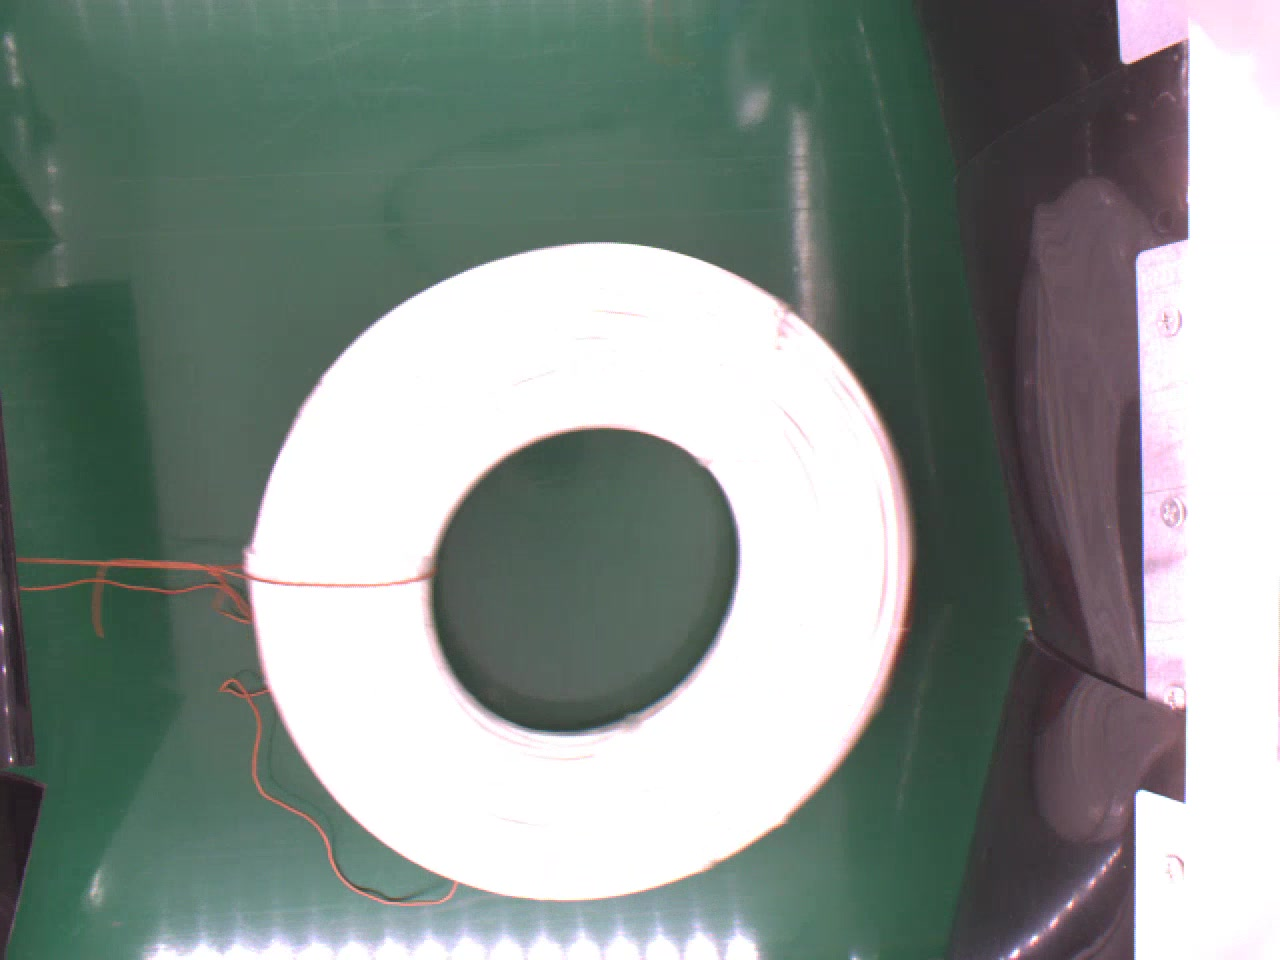white: (249, 233, 931, 898)
